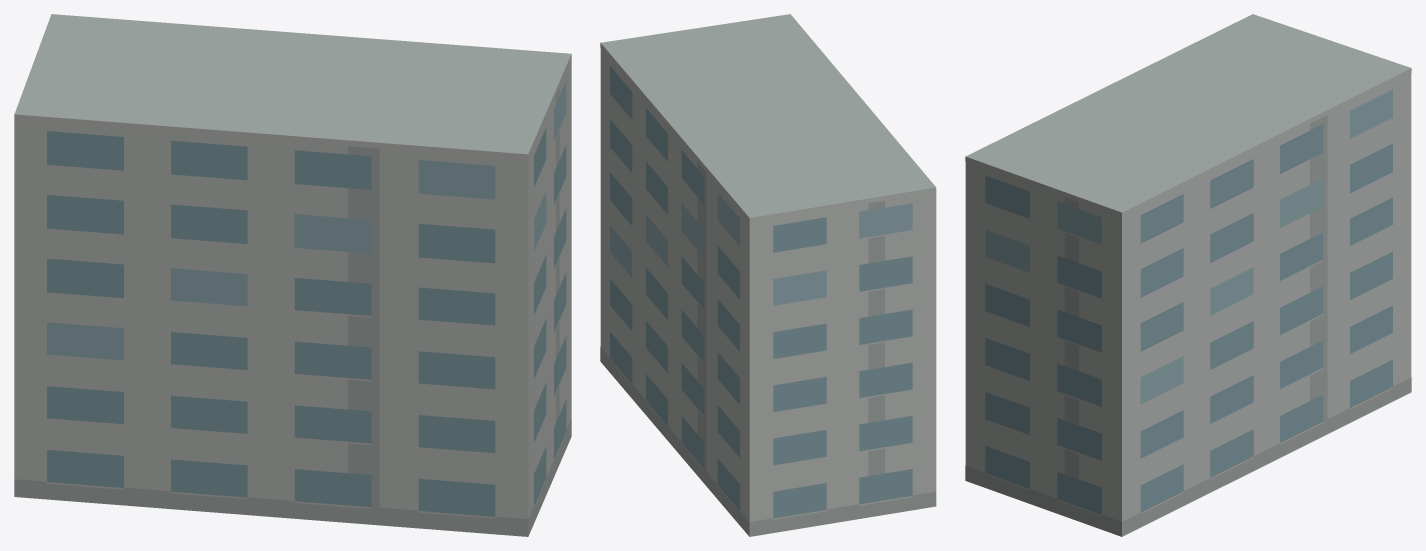
Rendered from survey-upis-32631402.glb.
3 renders of one model, left to right at view 1: azimuth 30°, elevation 25°; view 2: azimuth 150°, elevation 25°; view 3: azimuth 270°, elevation 25°, orthographic. The views are drawn at different scales.
Visible parts, largest first — view 1: survey-upis-32631402.tmp; view 2: survey-upis-32631402.tmp; view 3: survey-upis-32631402.tmp.
Part boxes in pixels (x1,y1,x2,y2): survey-upis-32631402.tmp: (14,14,571,536); survey-upis-32631402.tmp: (600,14,936,536); survey-upis-32631402.tmp: (965,14,1411,536).
Bounding box in the file's own units: 20.62 × 15.7 × 19.57.
